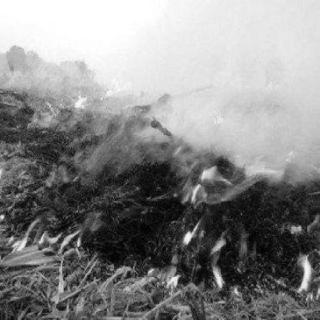Fire: (0, 91, 318, 306)
